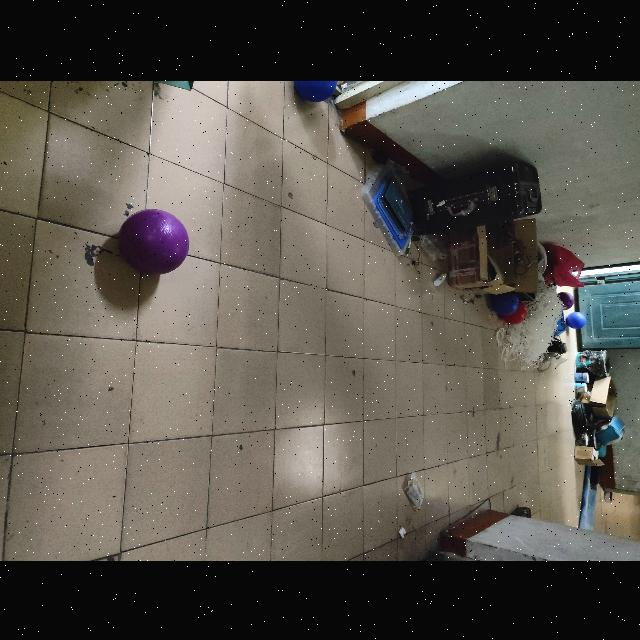B: (292, 80, 338, 102), (491, 288, 519, 316), (566, 310, 586, 328)
P: (119, 206, 190, 274), (556, 290, 574, 310)
R: (501, 297, 527, 323)
